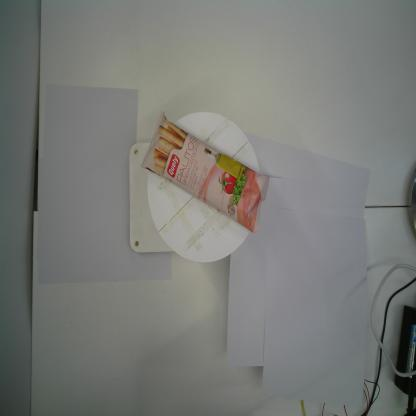Dessert: (139, 108, 271, 238)
